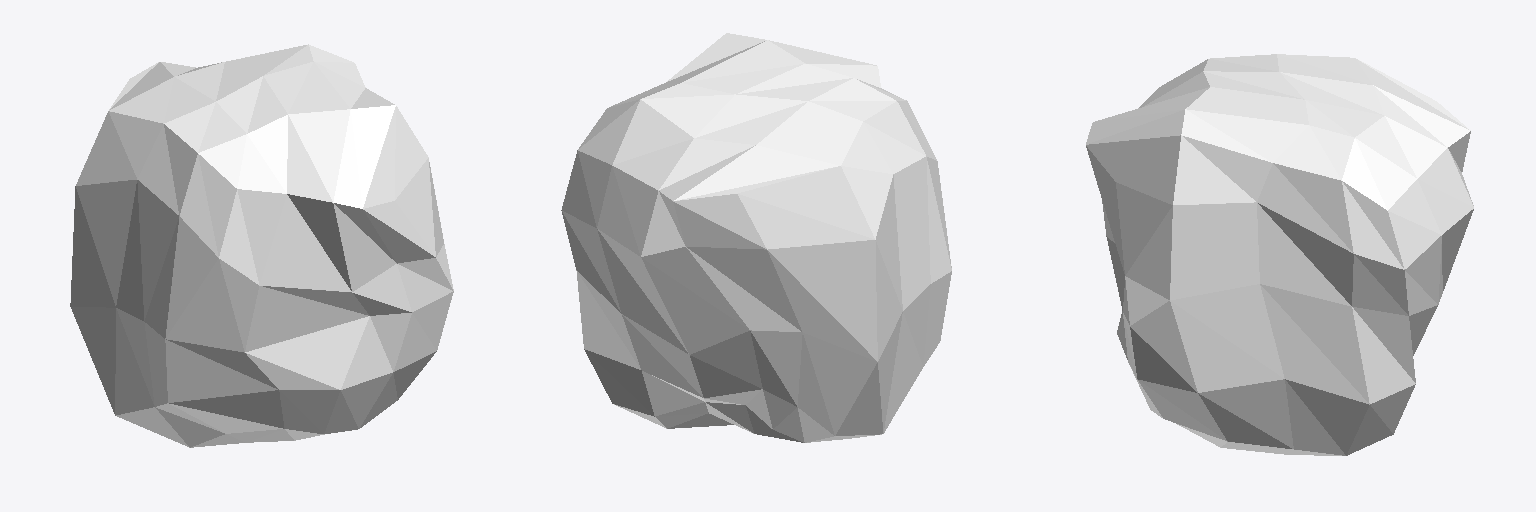
Rendered from asteroid.obj.
3 renders of one model, left to right at view 1: azimuth 30°, elevation 25°; view 2: azimuth 150°, elevation 25°; view 3: azimuth 270°, elevation 25°, orthographic.
Parts seen in each view (by area): view 1: Cube; view 2: Cube; view 3: Cube.
Part boxes in pixels (x1,y1,x2,y2): Cube: (70,44,453,447); Cube: (561,33,951,442); Cube: (1086,54,1473,455).
Size of the model in its own units: 0.8277 by 0.9091 by 0.9434.